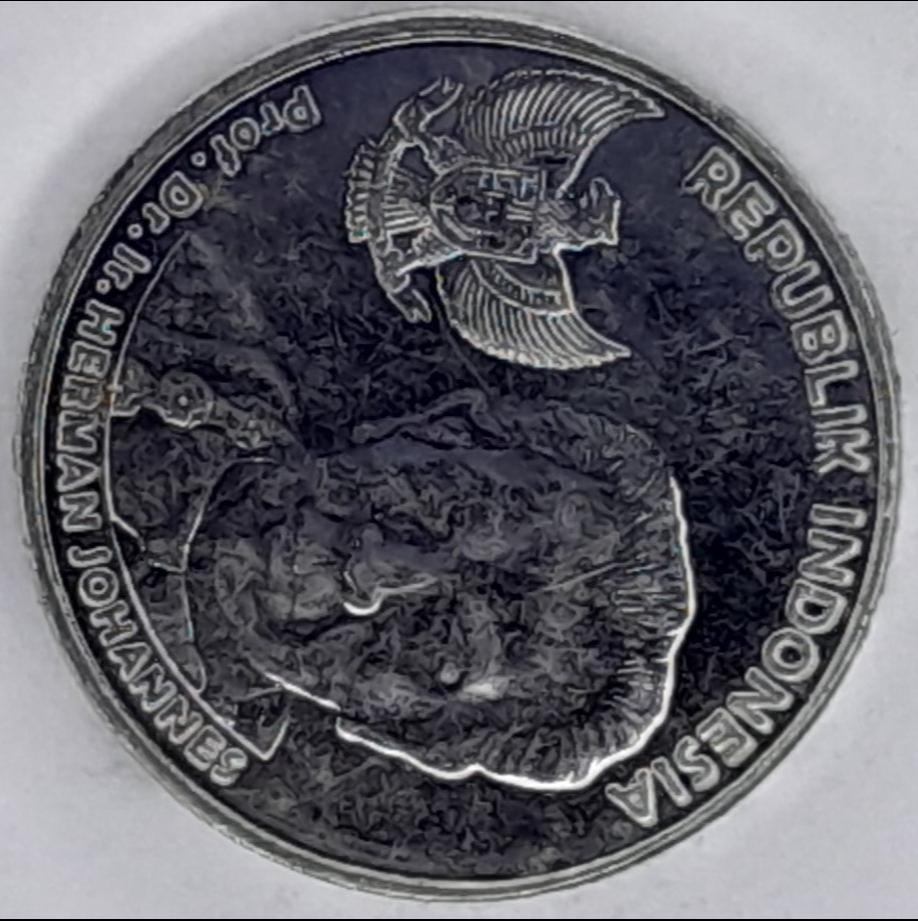coin_100_e2016: (10, 3, 905, 903)
